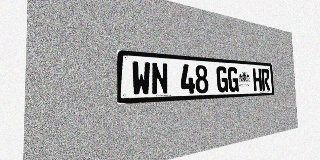4: (180, 64, 195, 94)
8: (195, 65, 208, 93)
G: (216, 66, 228, 92), (228, 67, 239, 92)
H: (253, 68, 262, 91)
N: (151, 62, 168, 95)
R: (261, 69, 270, 91)
W: (131, 61, 151, 96)
